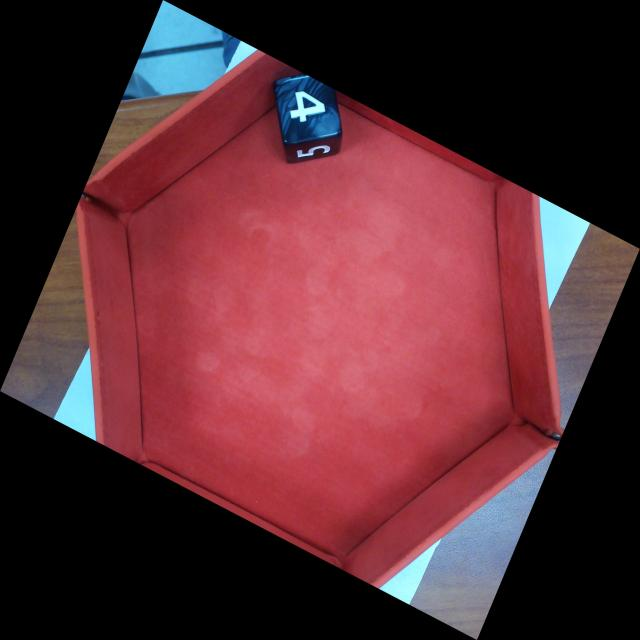dice: (270, 64, 343, 147)
